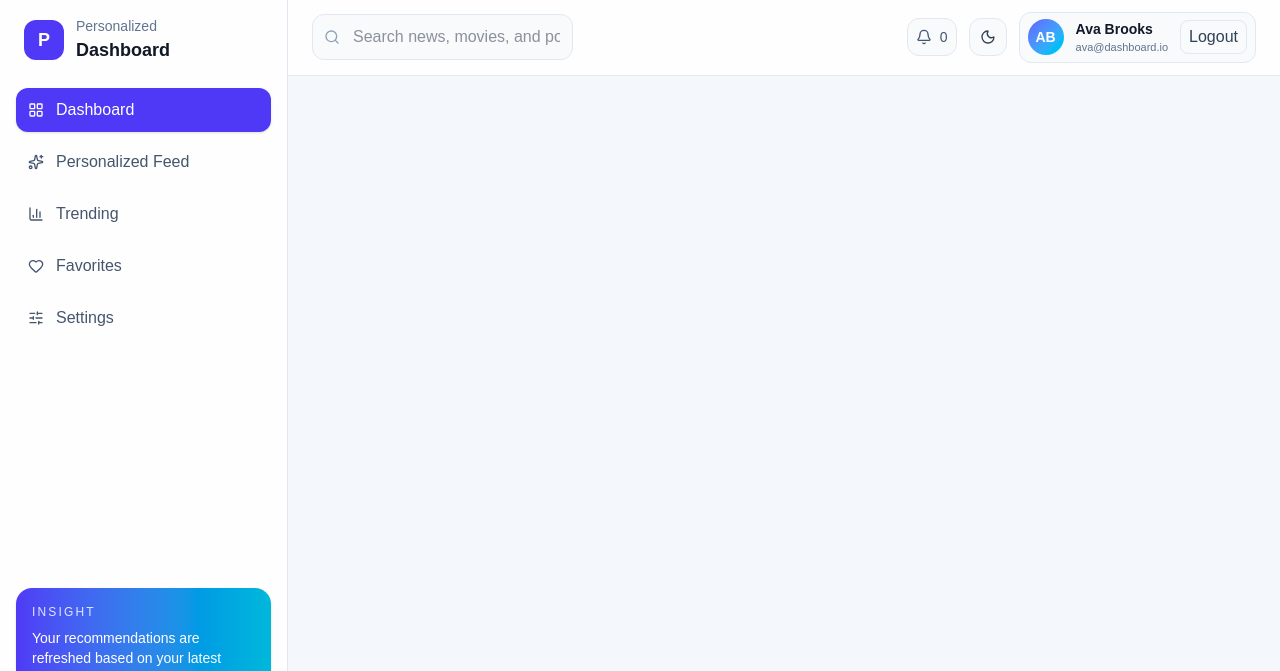
Test: Dashboard integration › searches for matching content and updates the results list
The image size is (1280, 671).
Step 1. Type "AI" into the field named "search content" → (442, 37), box [312,14,573,60]
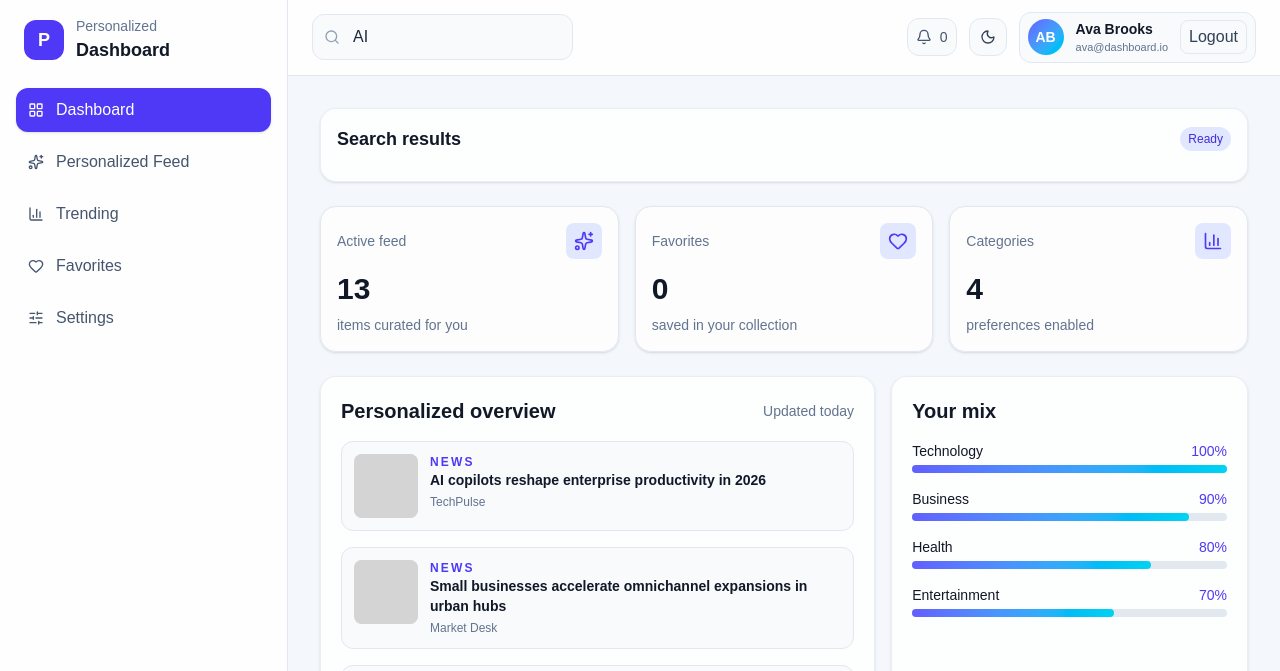
Check: the heading "Search results" is shown, box [337,124,461,152]
